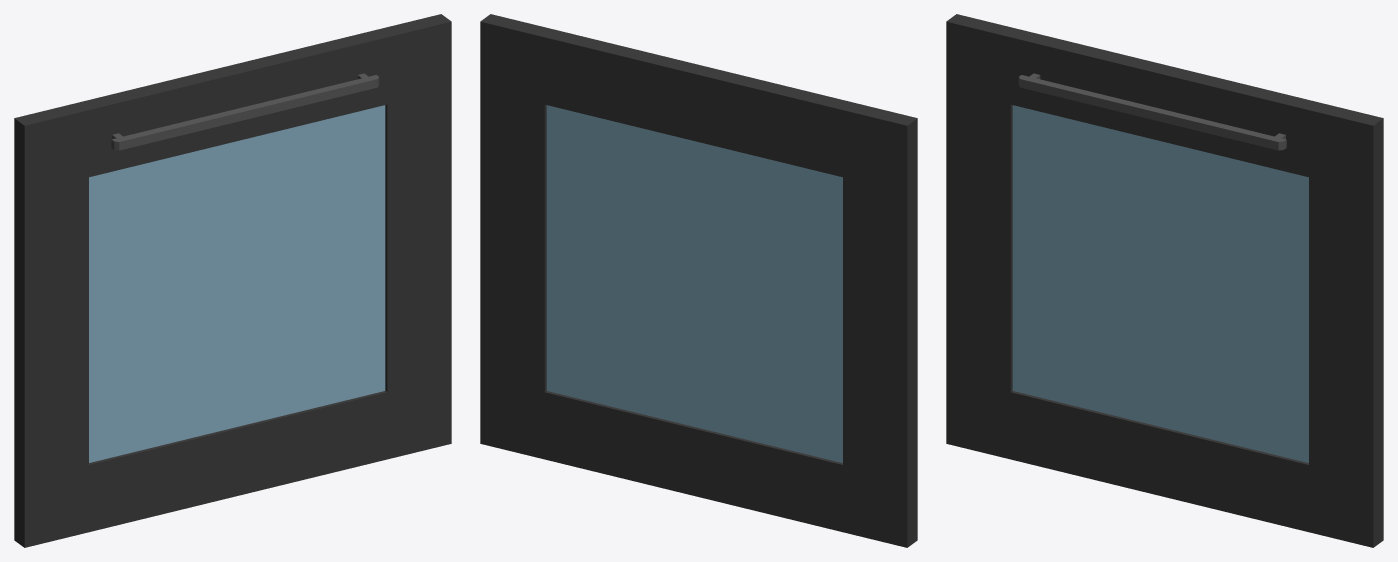
The model's file is Oven3_02.fbx.
3 views of the same model, side by side, from view 1: azimuth 30°, elevation 25°; view 2: azimuth 150°, elevation 25°; view 3: azimuth 330°, elevation 25° (orthographic).
Visible parts, largest first — view 1: Oven3_02; view 2: Oven3_02; view 3: Oven3_02.
Part boxes in pixels (left/top/right/bottom): Oven3_02: left=14, top=14, right=451, bottom=547; Oven3_02: left=480, top=14, right=917, bottom=547; Oven3_02: left=946, top=14, right=1383, bottom=547.
Size of the model in its own units: 59.2 by 55.91 by 5.01.
